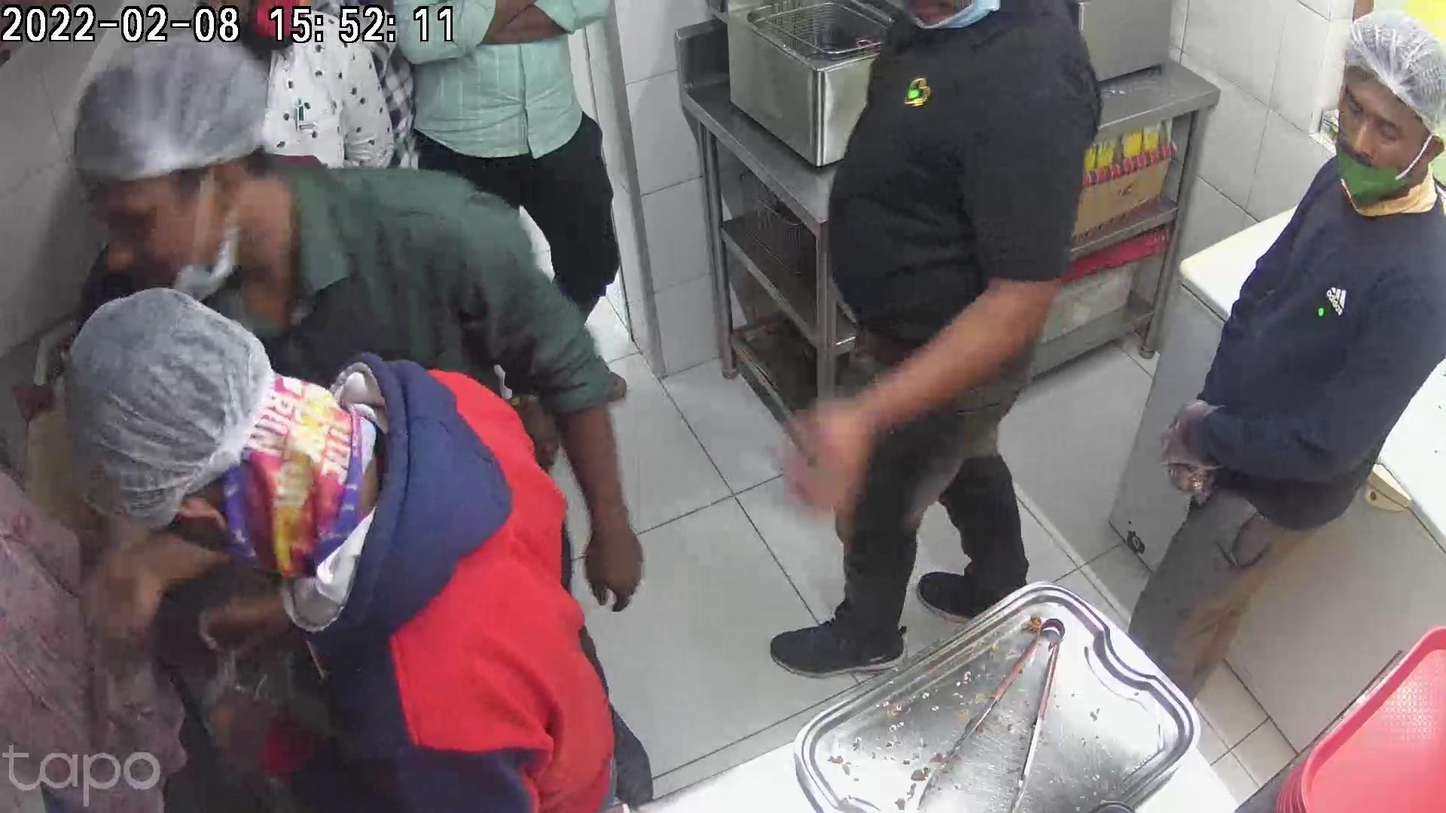no_gloves: (582, 498, 651, 608)
